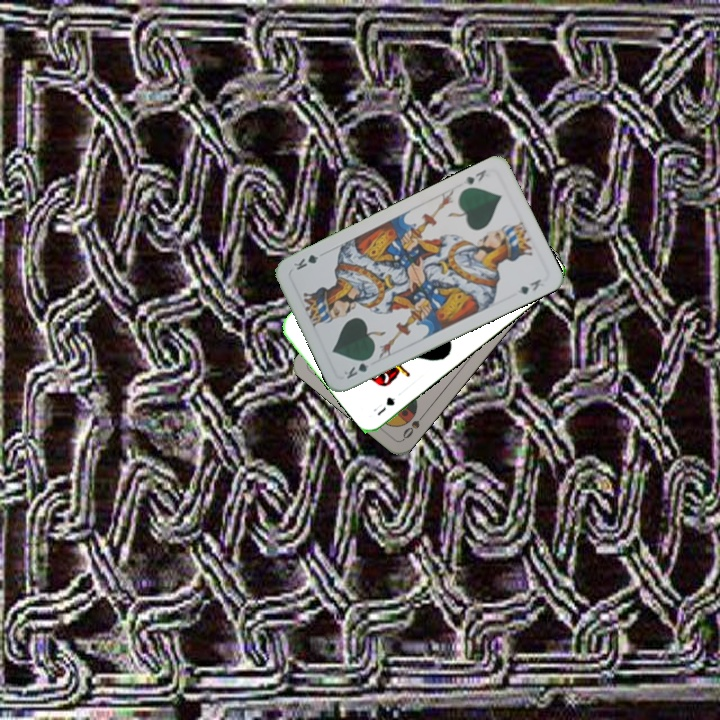GK: (340, 353, 375, 382), (459, 165, 489, 187)
GU: (373, 393, 397, 418)
SO: (398, 408, 429, 442)
